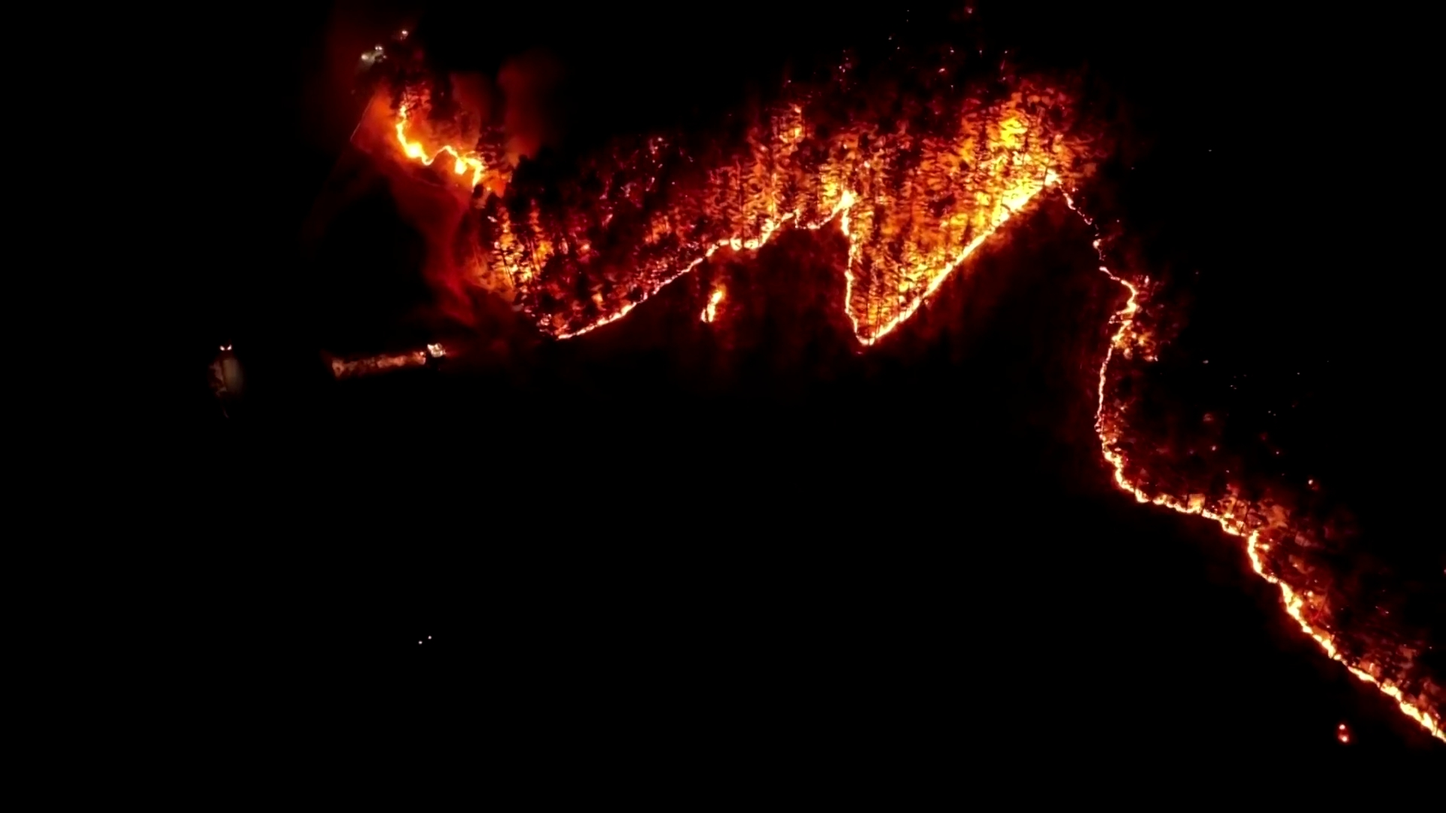forest_fire: (386, 67, 1100, 349), (1094, 231, 1445, 740), (332, 350, 428, 376), (693, 285, 728, 322)
